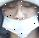mask_weared_incorrect: (1, 2, 39, 38)
